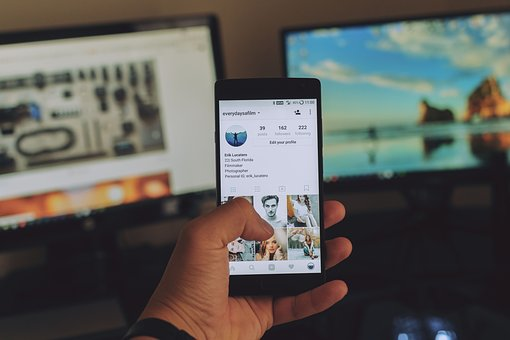mobile: (212, 76, 331, 286)
